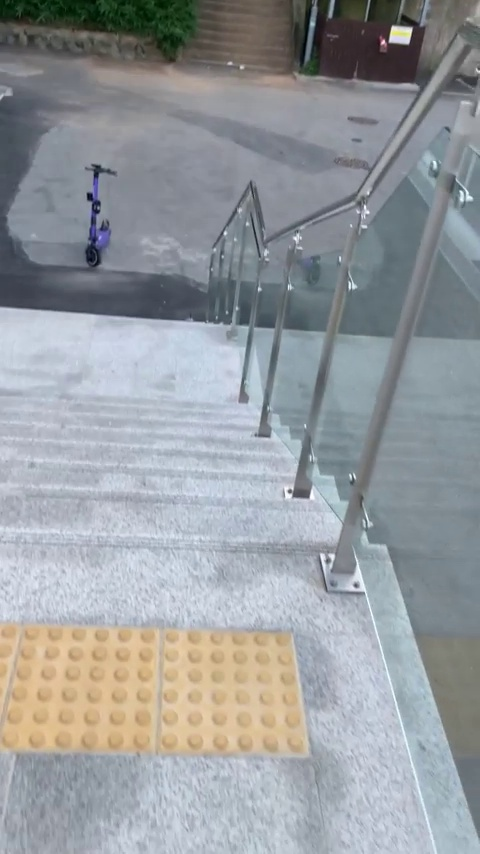beam: (75, 151, 125, 276)
